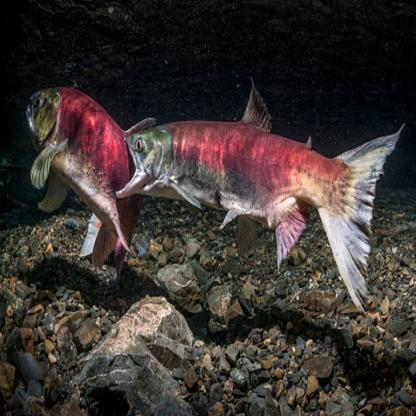sockeye: (106, 105, 389, 247), (27, 73, 144, 269)
